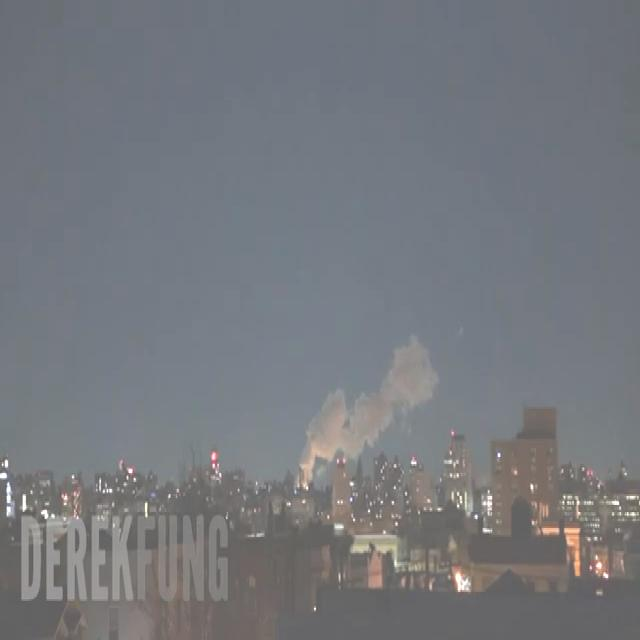smoke: (296, 341, 438, 485)
